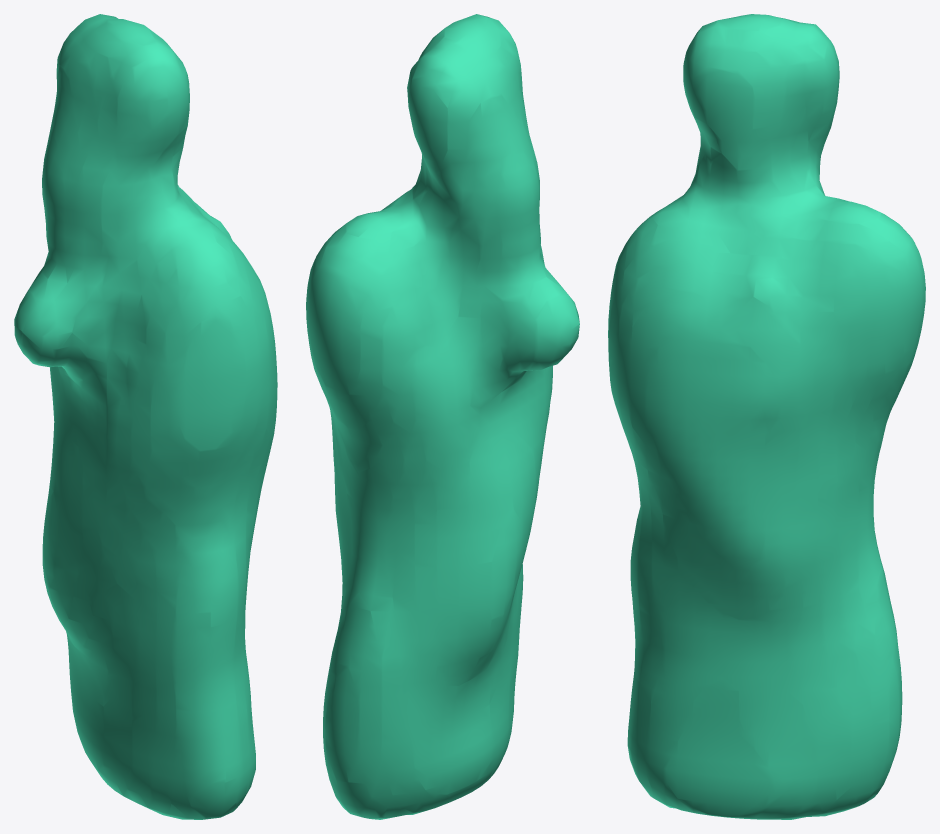
The picture shows the model from 3 angles, left to right: view 1: azimuth 30°, elevation 25°; view 2: azimuth 150°, elevation 25°; view 3: azimuth 270°, elevation 25°; orthographic projection.
Parts seen in each view (by area): view 1: Liquid_Domain; view 2: Liquid_Domain; view 3: Liquid_Domain.
Boxes of the visible parts, x1,y1,x2,y2 form: Liquid_Domain: (14, 14, 277, 819); Liquid_Domain: (306, 14, 579, 819); Liquid_Domain: (608, 14, 925, 819).
Bounding box in the file's own units: 2.36 × 7.5 × 2.82.
